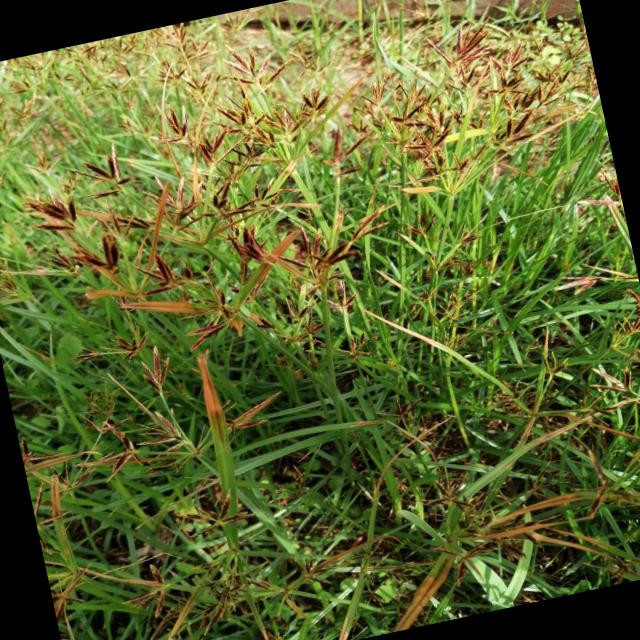cyperus: (63, 325, 284, 487), (72, 134, 322, 274), (389, 436, 581, 570), (123, 225, 294, 356), (250, 194, 404, 314), (0, 177, 125, 310), (271, 274, 399, 389), (348, 61, 466, 183), (471, 26, 602, 131), (0, 29, 158, 105), (182, 541, 276, 634), (395, 199, 489, 287), (408, 273, 502, 361), (217, 86, 305, 162), (148, 17, 223, 103), (212, 29, 290, 102), (170, 476, 256, 541), (381, 388, 452, 462), (421, 18, 498, 78), (116, 560, 186, 622), (308, 119, 372, 182), (66, 144, 134, 202), (144, 100, 208, 156), (282, 33, 341, 82), (281, 544, 335, 596), (373, 0, 472, 27), (566, 375, 612, 426), (104, 87, 148, 137), (608, 285, 640, 340), (18, 147, 60, 182), (294, 85, 332, 123), (10, 96, 47, 126)
